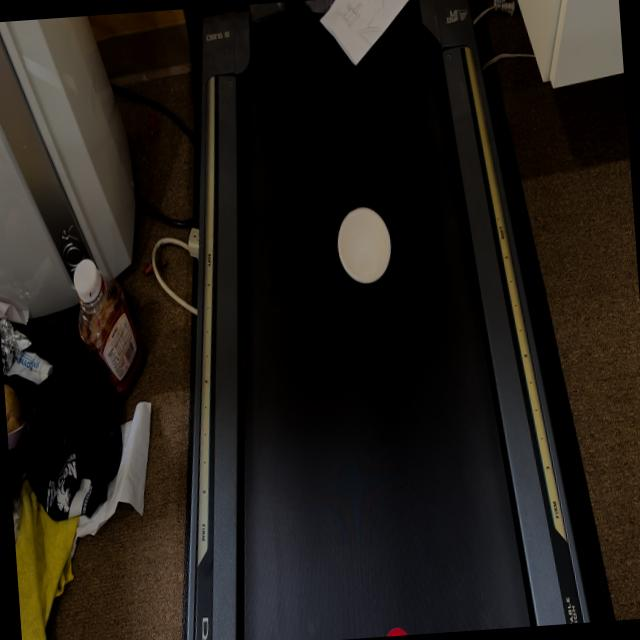Recycle: (317, 0, 419, 69), (334, 202, 395, 288)
